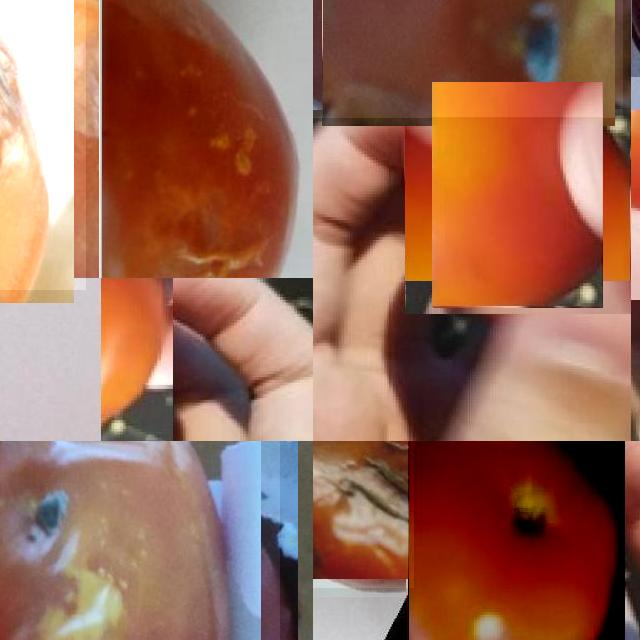Fresh Tomato: (408, 441, 625, 640), (432, 82, 602, 307)
Rotten Tomato: (101, 0, 313, 278), (0, 441, 279, 640), (313, 0, 623, 118), (0, 0, 86, 290), (313, 441, 414, 588)
